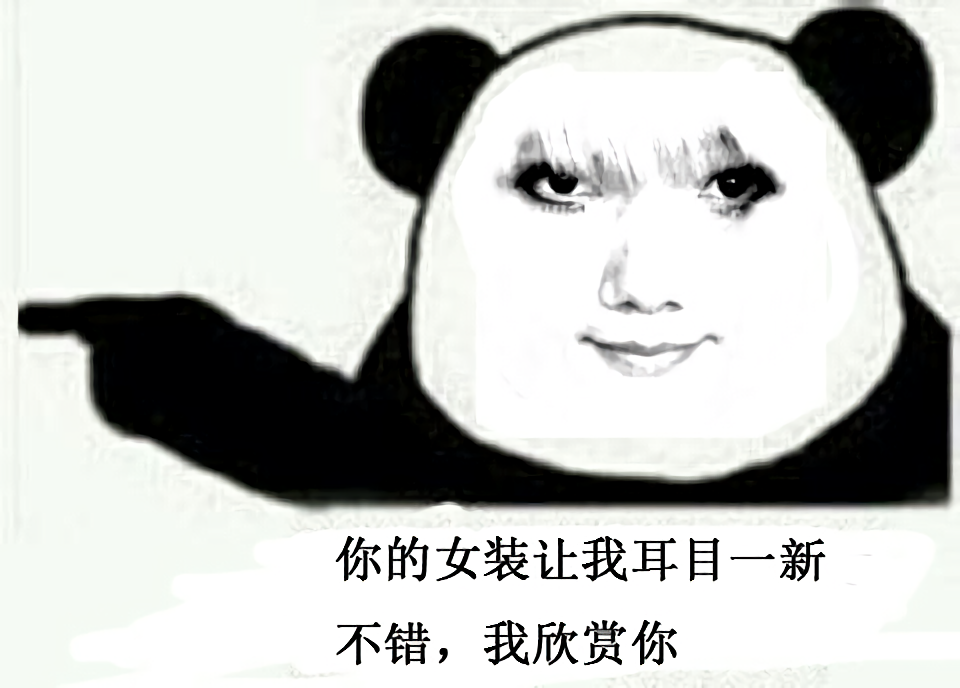dragon: (500, 131, 788, 382)
